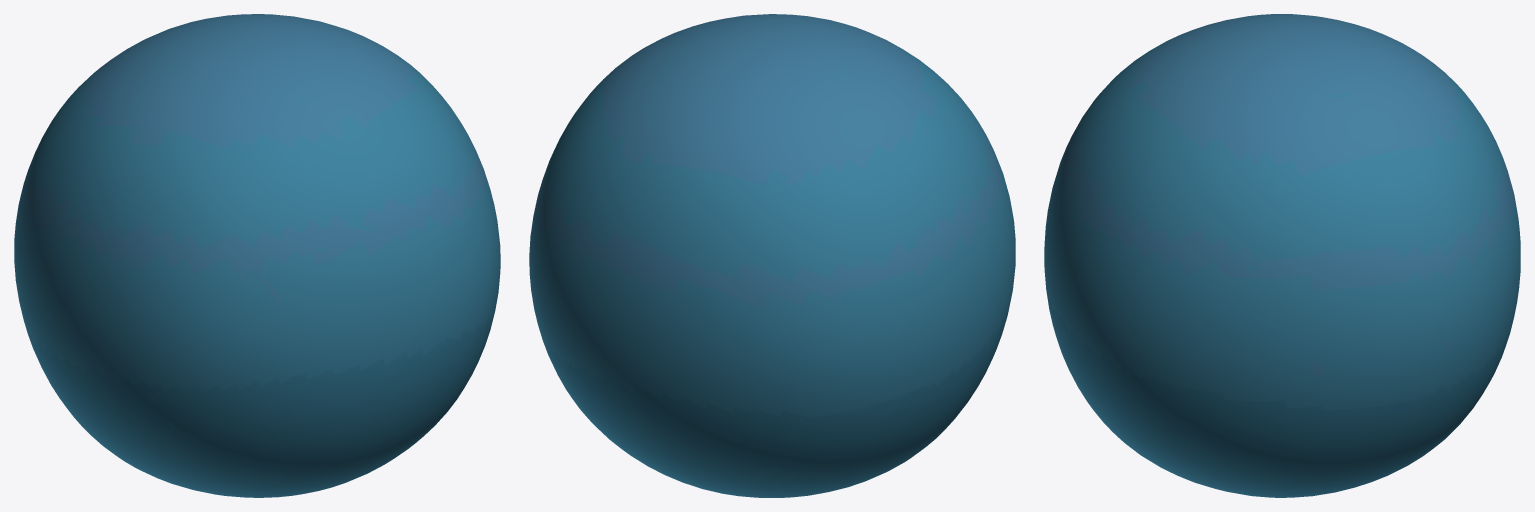
File: ball_cc8b7e34_visual.obj
The picture shows the model from 3 angles, left to right: view 1: azimuth 30°, elevation 25°; view 2: azimuth 150°, elevation 25°; view 3: azimuth 270°, elevation 25°; orthographic projection.
Bounding box in the file's own units: 0.2 × 0.2 × 0.1999.
Materials: 1 (1 with a texture image).
